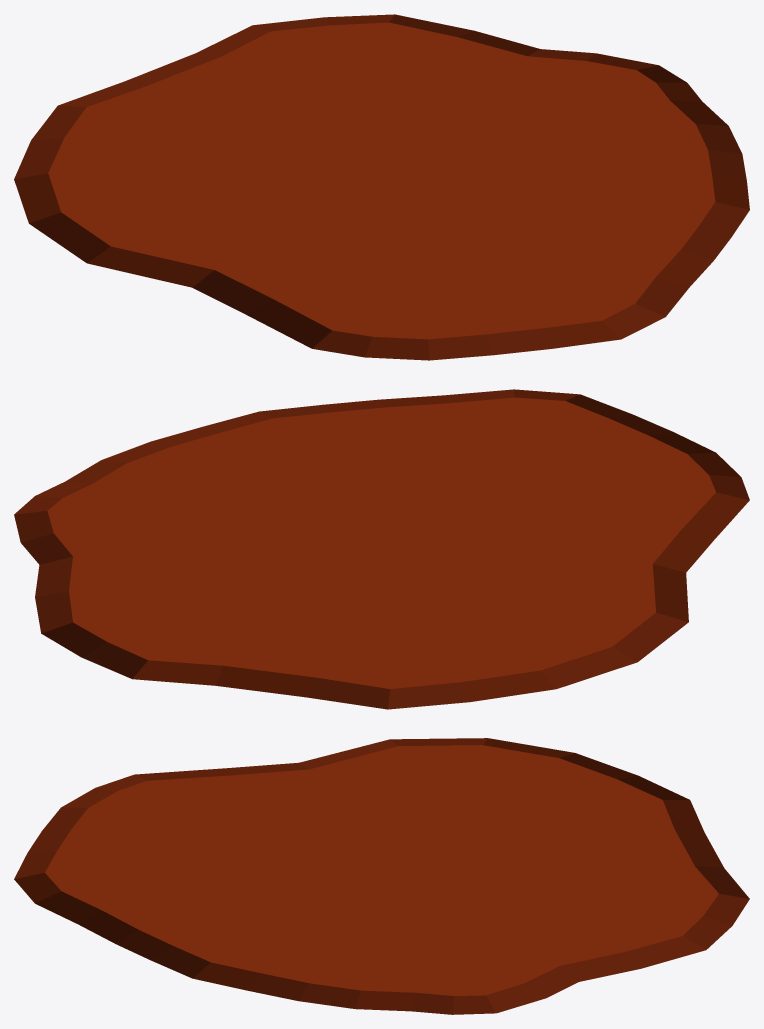
The model's file is Terreno.FBX.
3 views of the same model, one above another, from view 1: azimuth 30°, elevation 25°; view 2: azimuth 150°, elevation 25°; view 3: azimuth 270°, elevation 25° (orthographic). The views are drawn at different scales.
Parts seen in each view (by area): view 1: Plant_Ground; view 2: Plant_Ground; view 3: Plant_Ground.
Part boxes in pixels (x1=…): Plant_Ground: x1=14, y1=14, x2=749, y2=360; Plant_Ground: x1=14, y1=389, x2=749, y2=709; Plant_Ground: x1=14, y1=738, x2=749, y2=1014.
Size of what is drawn, in the model's own units: 629 by 6.04 by 707.
